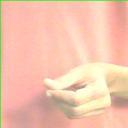hand: (43, 61, 127, 119)
